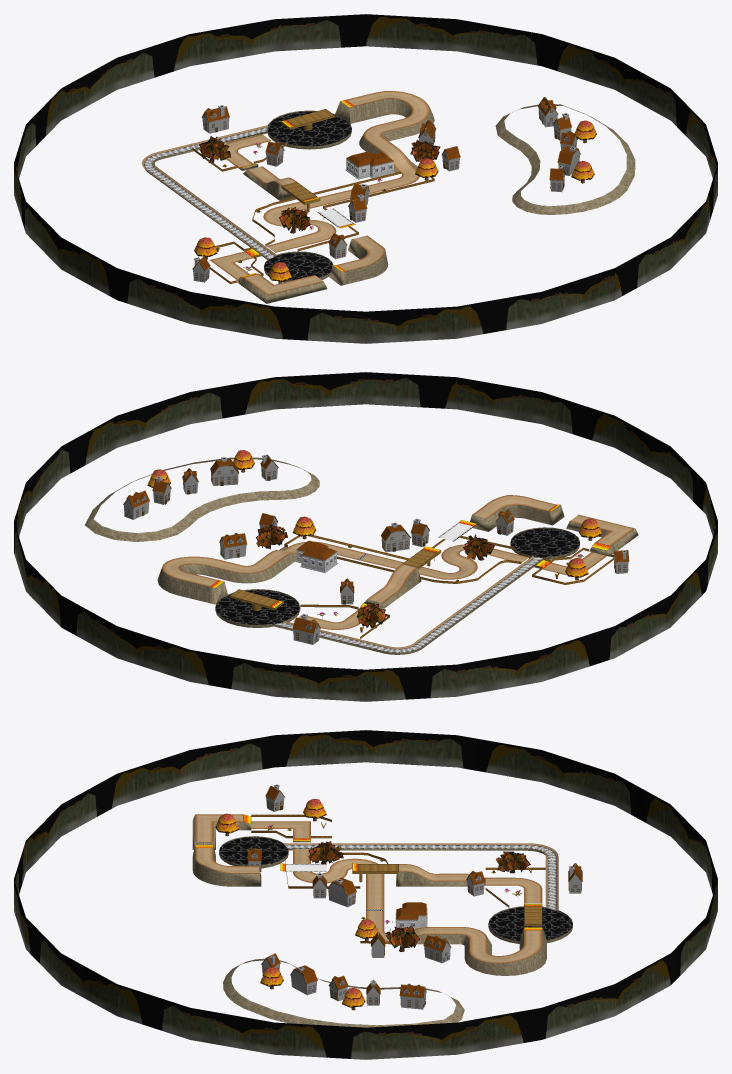
3 views of the same model, one above another, from view 1: azimuth 30°, elevation 25°; view 2: azimuth 150°, elevation 25°; view 3: azimuth 270°, elevation 25° (orthographic).
Visible parts, largest first — view 1: model-SKP--Mountains.001, model-SKP--RockWall.001, model-SKP--Road.001, model-SKP--Water.001, model-SKP--MarioHouseBrick.001, model-SKP--MarioHouseRoof.001, model-SKP--Tree.001, model-SKP--MC_Leaf.001, model-SKP--Waterfall.001, model-SKP--Fence.001, model-SKP--MarioHouseBorder.001, model-SKP--Wood.001 (+3 smaller); view 2: model-SKP--Mountains.001, model-SKP--RockWall.001, model-SKP--Road.001, model-SKP--MarioHouseBrick.001, model-SKP--Water.001, model-SKP--MarioHouseRoof.001, model-SKP--Fence.001, model-SKP--Tree.001, model-SKP--MC_Leaf.001, model-SKP--Waterfall.001, model-SKP--MarioHouseBorder.001, model-SKP--Wood.001 (+2 smaller); view 3: model-SKP--Mountains.001, model-SKP--RockWall.001, model-SKP--Road.001, model-SKP--MarioHouseBrick.001, model-SKP--Water.001, model-SKP--MarioHouseRoof.001, model-SKP--Tree.001, model-SKP--MC_Leaf.001, model-SKP--Waterfall.001, model-SKP--MarioHouseBorder.001, model-SKP--GrassEdge.001, model-SKP--Fence.001 (+2 smaller).
Part boxes in pixels (<box>): model-SKP--Mountains.001: <box>14,14,717,343</box>; model-SKP--RockWall.001: <box>145,98,635,303</box>; model-SKP--Road.001: <box>210,91,430,295</box>; model-SKP--Water.001: <box>264,111,351,280</box>; model-SKP--MarioHouseBrick.001: <box>193,103,579,282</box>; model-SKP--MarioHouseRoof.001: <box>200,97,577,270</box>; model-SKP--Tree.001: <box>194,120,596,281</box>; model-SKP--MC_Leaf.001: <box>199,136,440,231</box>; model-SKP--Waterfall.001: <box>144,127,274,259</box>; model-SKP--Fence.001: <box>192,142,434,283</box>; model-SKP--MarioHouseBorder.001: <box>192,97,580,280</box>; model-SKP--Wood.001: <box>280,109,334,212</box>; model-SKP--Mountains.001: <box>14,372,717,701</box>; model-SKP--RockWall.001: <box>85,457,638,654</box>; model-SKP--Road.001: <box>162,495,634,629</box>; model-SKP--MarioHouseBrick.001: <box>124,455,628,644</box>; model-SKP--Water.001: <box>215,528,579,624</box>; model-SKP--MarioHouseRoof.001: <box>126,455,628,632</box>; model-SKP--Fence.001: <box>284,535,613,638</box>; model-SKP--Tree.001: <box>147,450,602,577</box>; model-SKP--MC_Leaf.001: <box>256,524,494,627</box>; model-SKP--Waterfall.001: <box>274,557,543,652</box>; model-SKP--MarioHouseBorder.001: <box>123,454,629,642</box>; model-SKP--Wood.001: <box>229,549,440,610</box>; model-SKP--Mountains.001: <box>14,730,717,1059</box>; model-SKP--RockWall.001: <box>192,815,572,1027</box>; model-SKP--Road.001: <box>195,814,542,963</box>; model-SKP--MarioHouseBrick.001: <box>248,784,581,1009</box>; model-SKP--Water.001: <box>219,837,572,940</box>; model-SKP--MarioHouseRoof.001: <box>248,786,582,997</box>; model-SKP--Tree.001: <box>215,799,378,1007</box>; model-SKP--MC_Leaf.001: <box>308,841,530,948</box>; model-SKP--Waterfall.001: <box>285,845,556,910</box>; model-SKP--MarioHouseBorder.001: <box>247,786,582,1007</box>; model-SKP--GrassEdge.001: <box>284,843,558,910</box>; model-SKP--Fence.001: <box>251,814,545,944</box>.
Size of what is drawn, in the model's own units: 134738 by 9259 by 134738.
30 materials, 30 textured.
